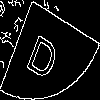D: (24, 25, 64, 83)
